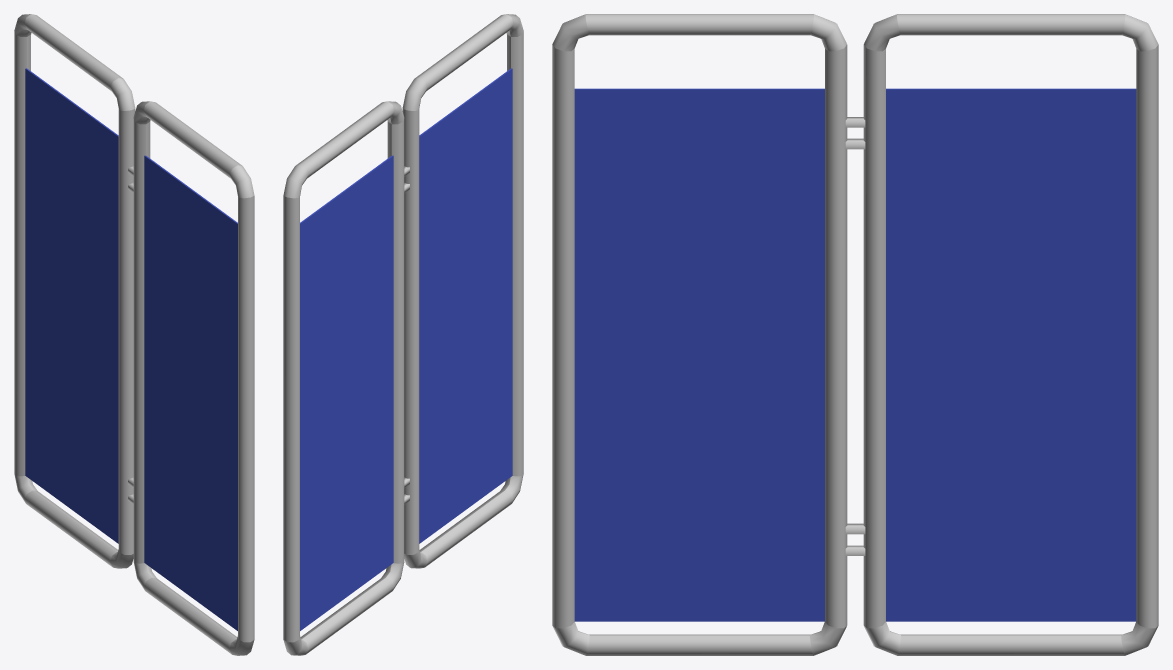
3 views of the same model, side by side, from view 1: azimuth 30°, elevation 25°; view 2: azimuth 150°, elevation 25°; view 3: azimuth 270°, elevation 25° (orthographic). The views are drawn at different scales.
Visible parts, largest first — view 1: Vert.001; view 2: Vert.001; view 3: Vert.001.
Boxes of the visible parts, x1=… form: Vert.001: x1=14, y1=14, x2=254, y2=655; Vert.001: x1=283, y1=14, x2=523, y2=655; Vert.001: x1=552, y1=14, x2=1158, y2=655.
Bounding box in the file's own units: 1.03 × 32.05 × 27.47.
